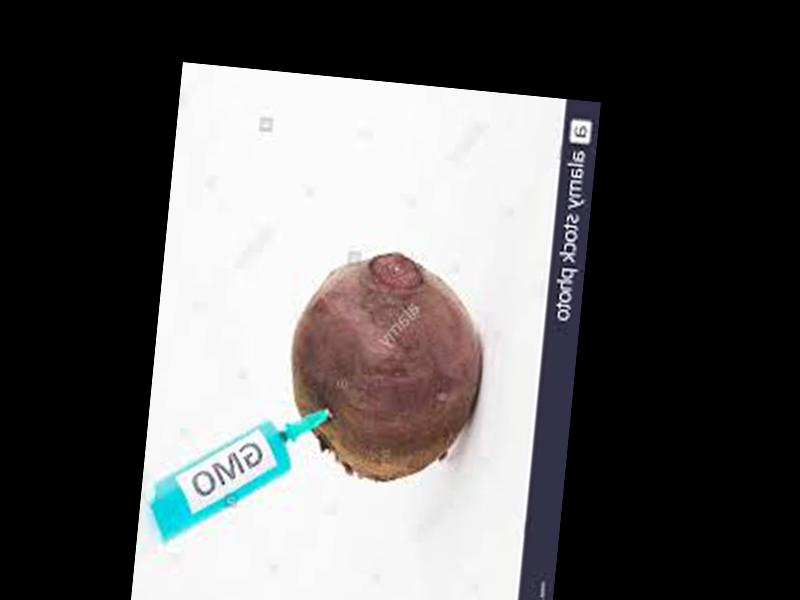Beet: (279, 245, 493, 485)
